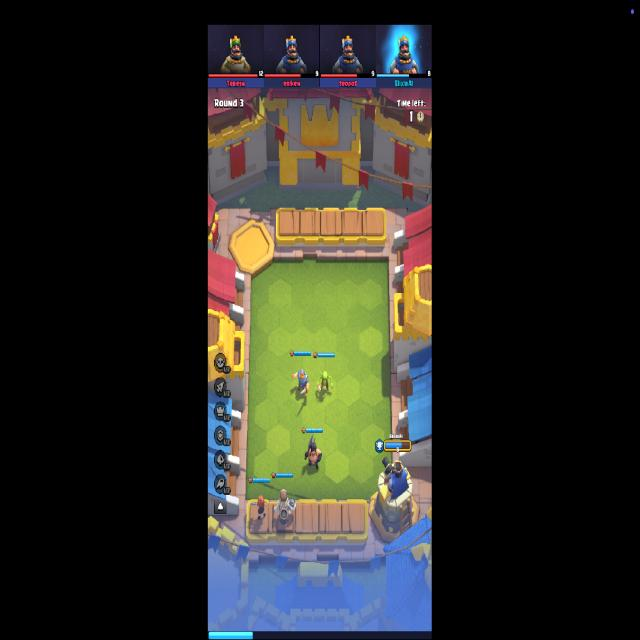executioner: (305, 434, 322, 470)
giant_skeleton: (274, 490, 296, 524)
goblin: (316, 370, 334, 394)
knight: (292, 368, 310, 394)
valkyrie: (252, 496, 268, 520)
